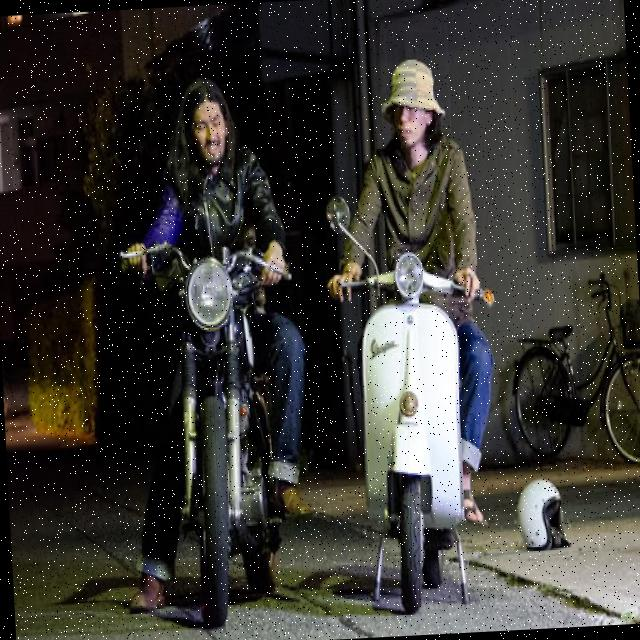No helmet: (154, 71, 254, 189), (369, 56, 468, 173)
